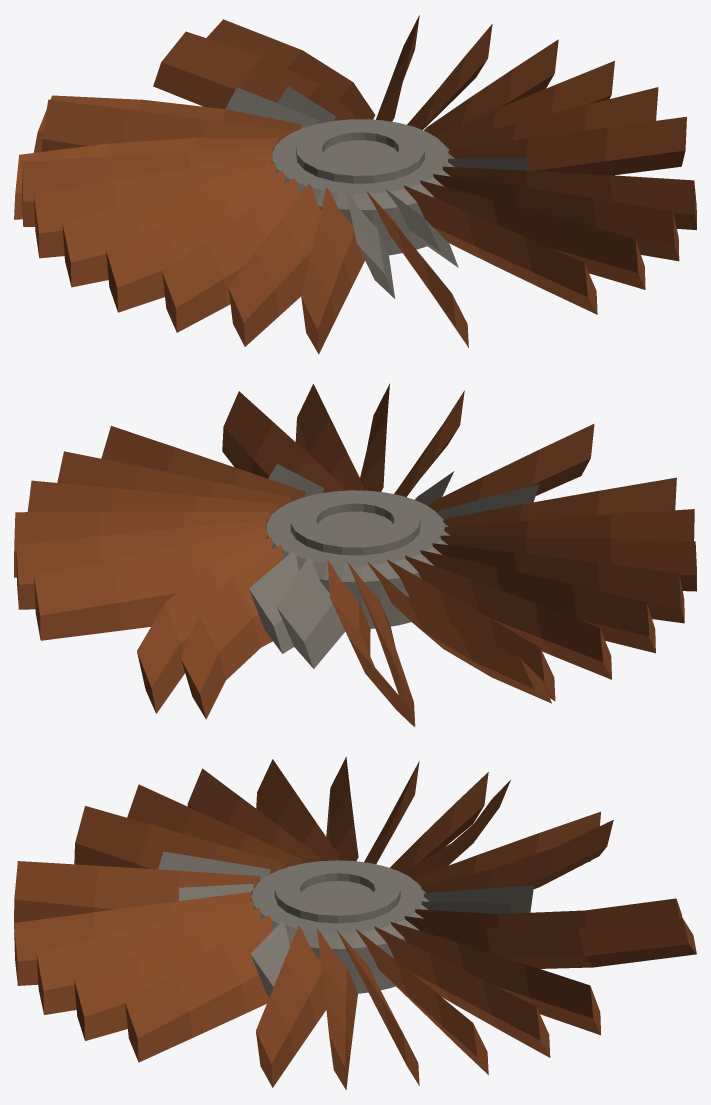
File: fanrotor_scrap.glb
3 renders of one model, top to bottom at view 1: azimuth 30°, elevation 25°; view 2: azimuth 150°, elevation 25°; view 3: azimuth 270°, elevation 25°, orthographic. The views are drawn at different scales.
Visible parts, largest first — view 1: fanrotor_scrap; view 2: fanrotor_scrap; view 3: fanrotor_scrap.
Boxes of the visible parts, bbox=[...] form: fanrotor_scrap: bbox=[14, 15, 696, 354]; fanrotor_scrap: bbox=[14, 383, 696, 727]; fanrotor_scrap: bbox=[14, 757, 696, 1089].
Bounding box in the file's own units: 0.628 × 0.088 × 0.6498.
